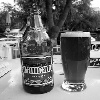beer: (59, 30, 90, 90)
